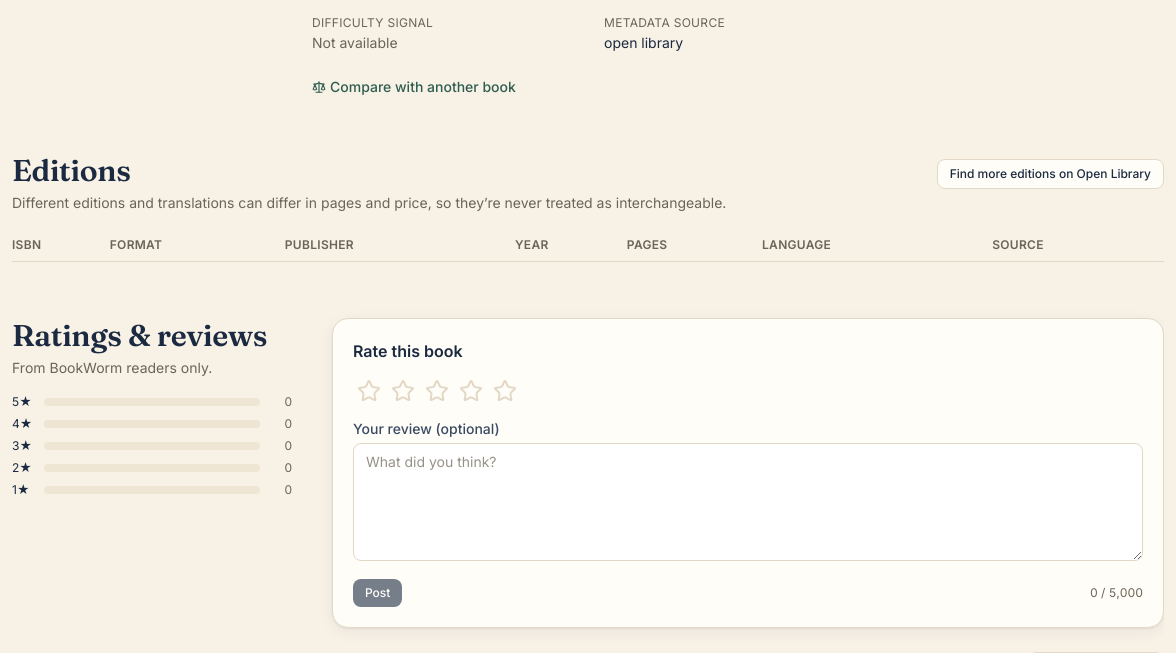
Review form › restores the draft when posting fails
(page scrolled)
Click the radio button named "5 stars": (505, 391) [489,375,521,407]
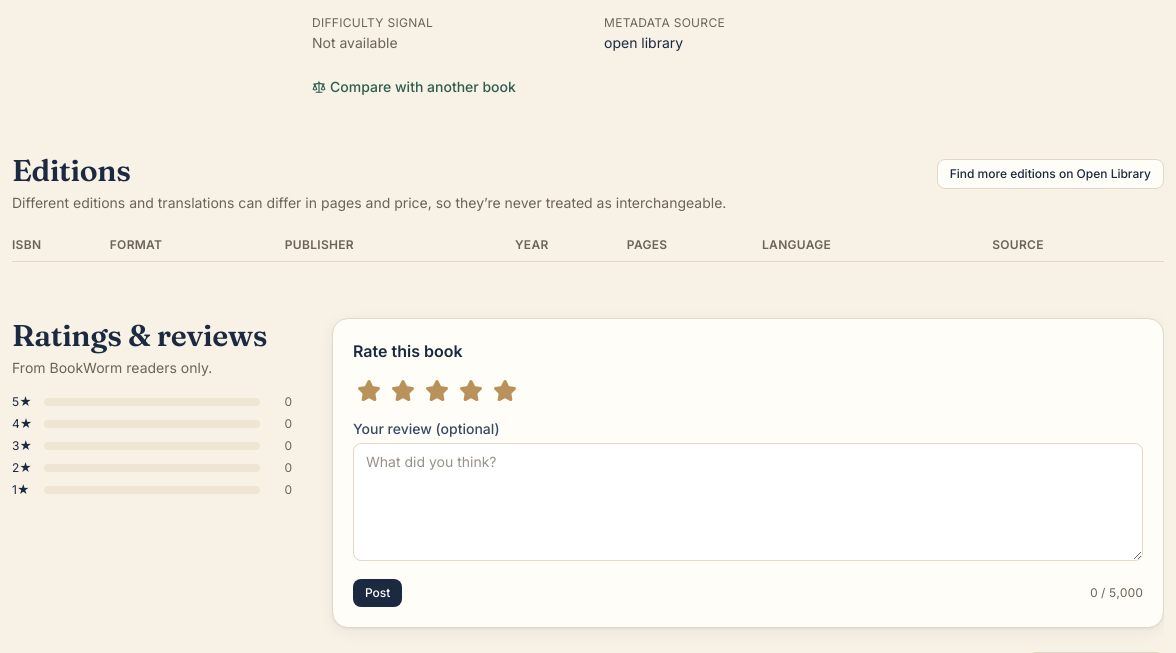
In the text box labelled "Your review (optional)": (748, 502) [353,443,1143,561], type "Keep this text"
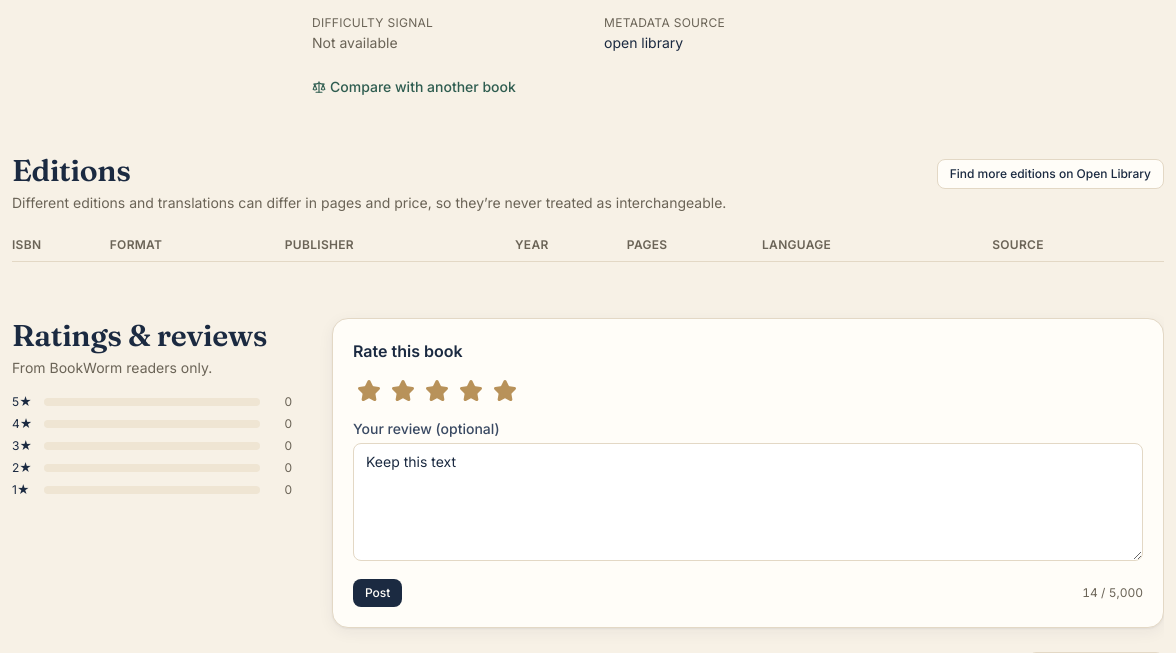
Click the button "Post": (378, 593) [353,579,402,607]
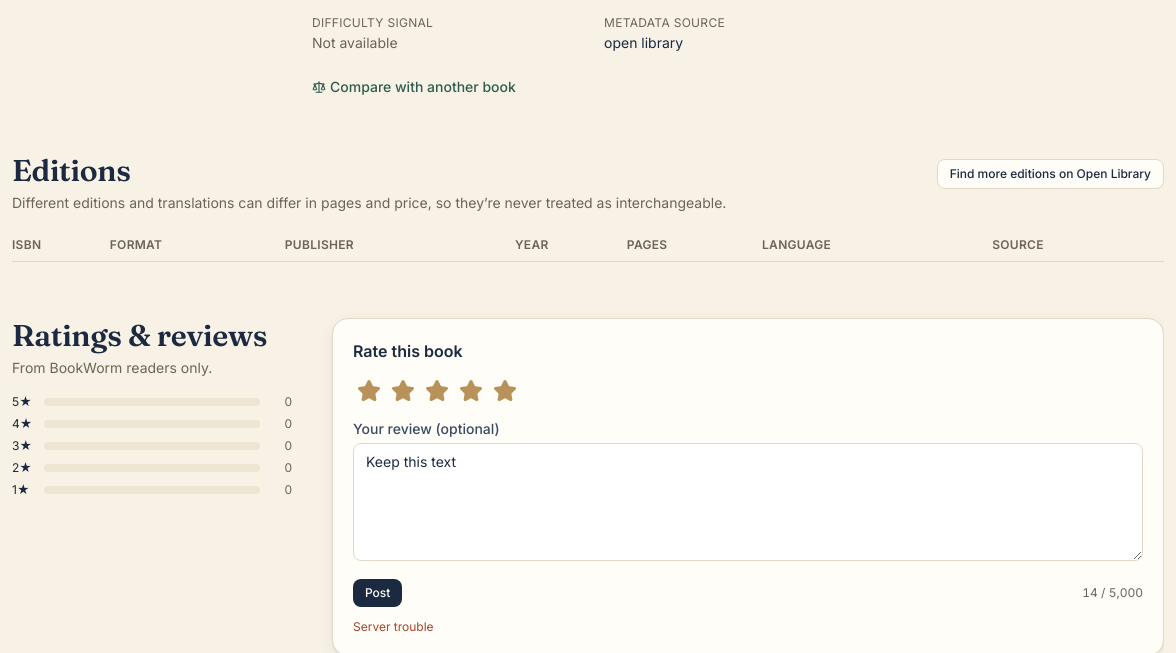
Check: the text box labelled "Your review (optional)" holds "Keep this text", box [353,443,1143,561]
Check: the text "Server trouble" is shown, box [353,619,434,634]
